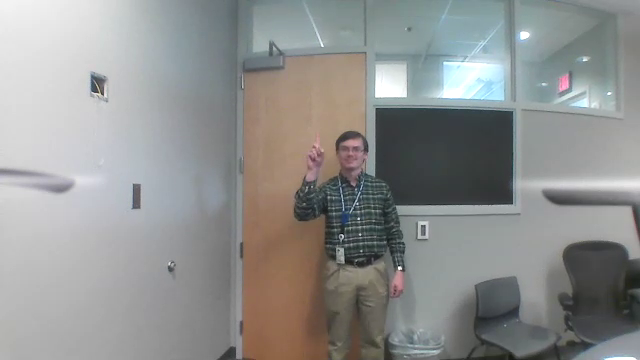up: (301, 128, 330, 173)
